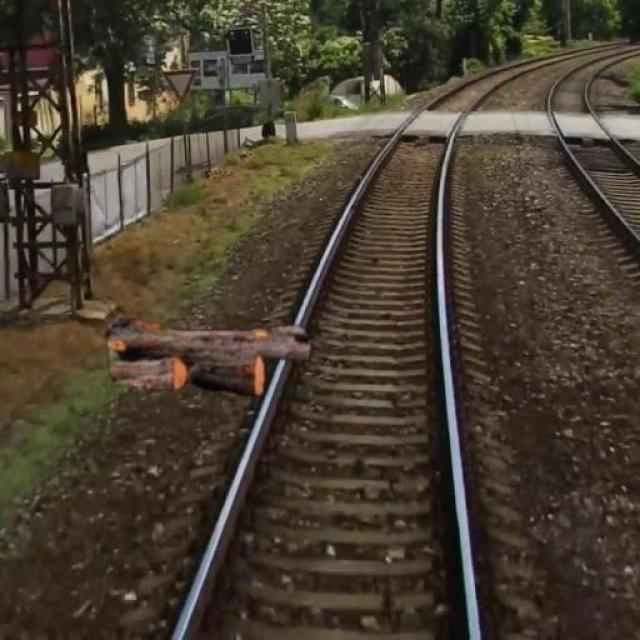Branches: (101, 310, 312, 398)
